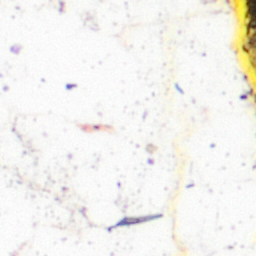cement_matrix: (246, 0, 255, 46)
cracks: (230, 0, 255, 102)
gravel_crushed_stones: (0, 0, 255, 255)
